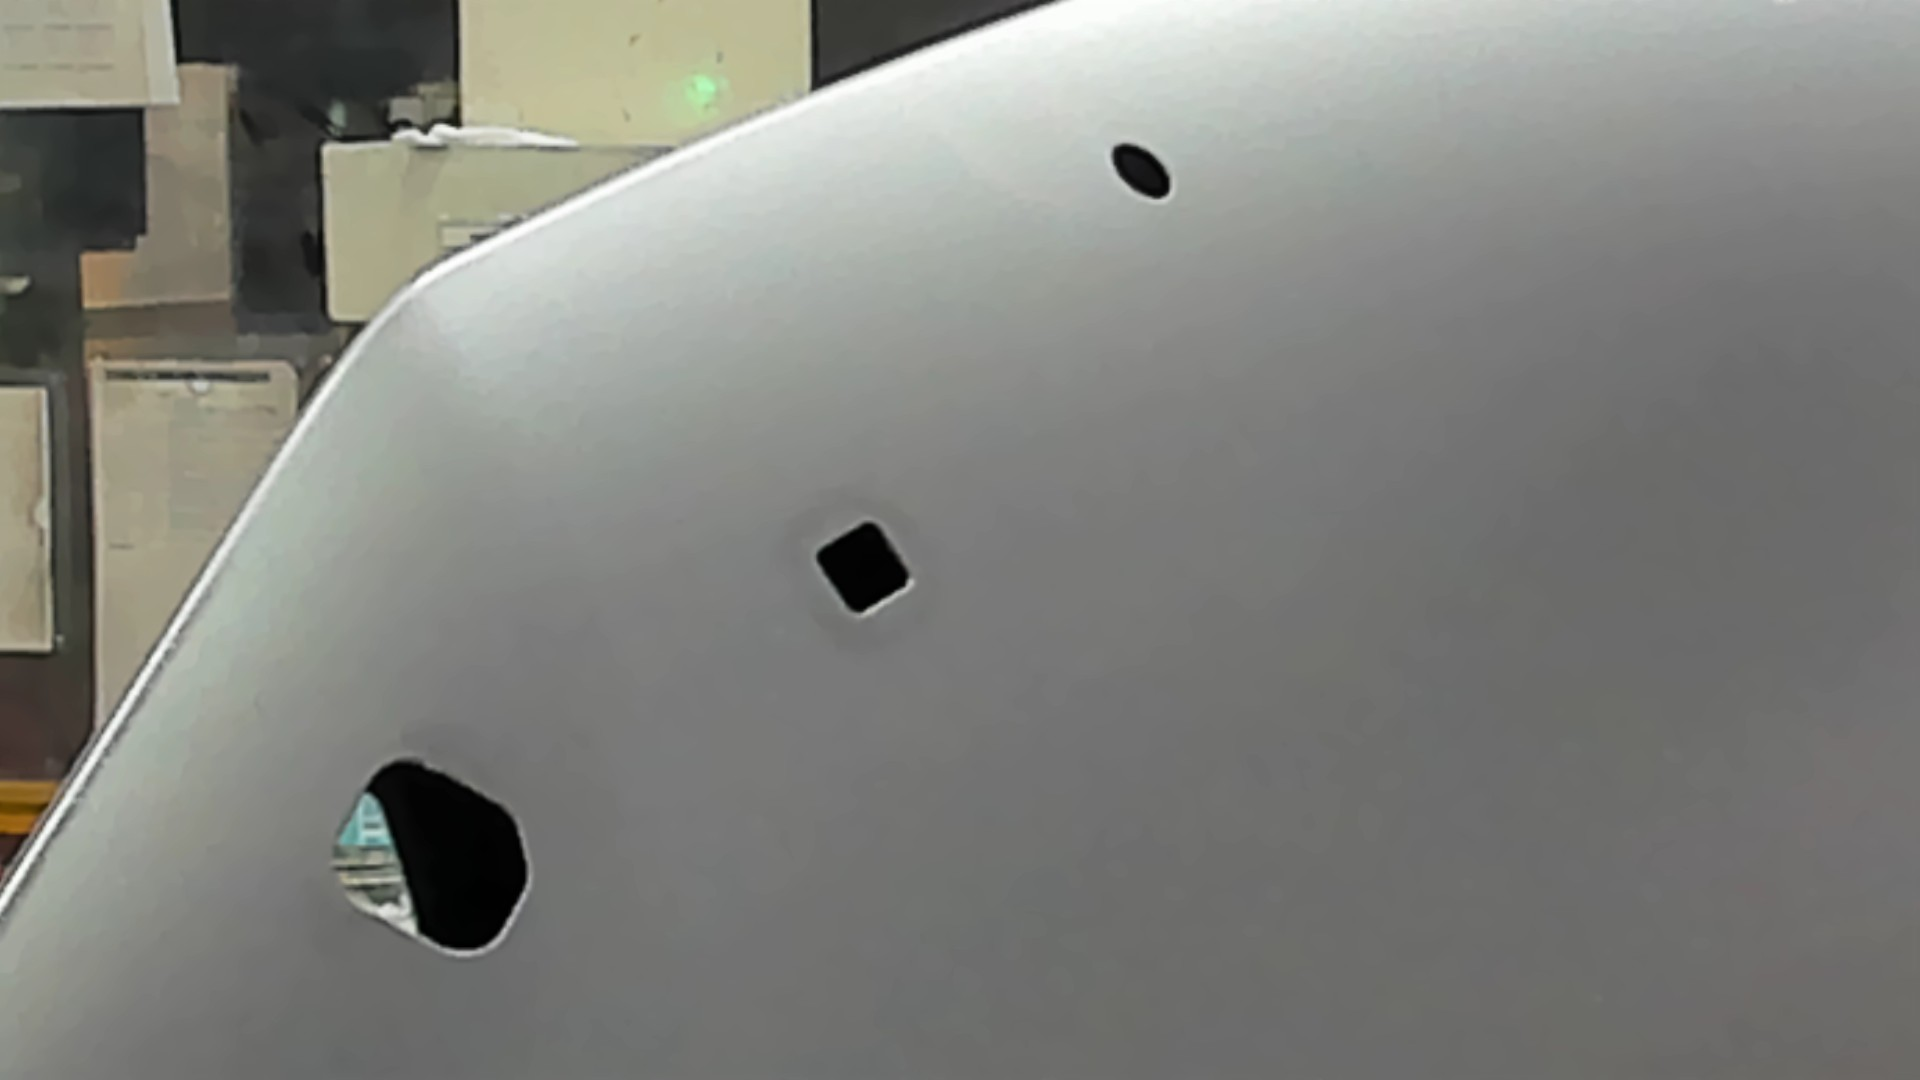chico: (1100, 132, 1183, 214)
grande: (302, 745, 559, 982)
mediano: (804, 510, 939, 629)
